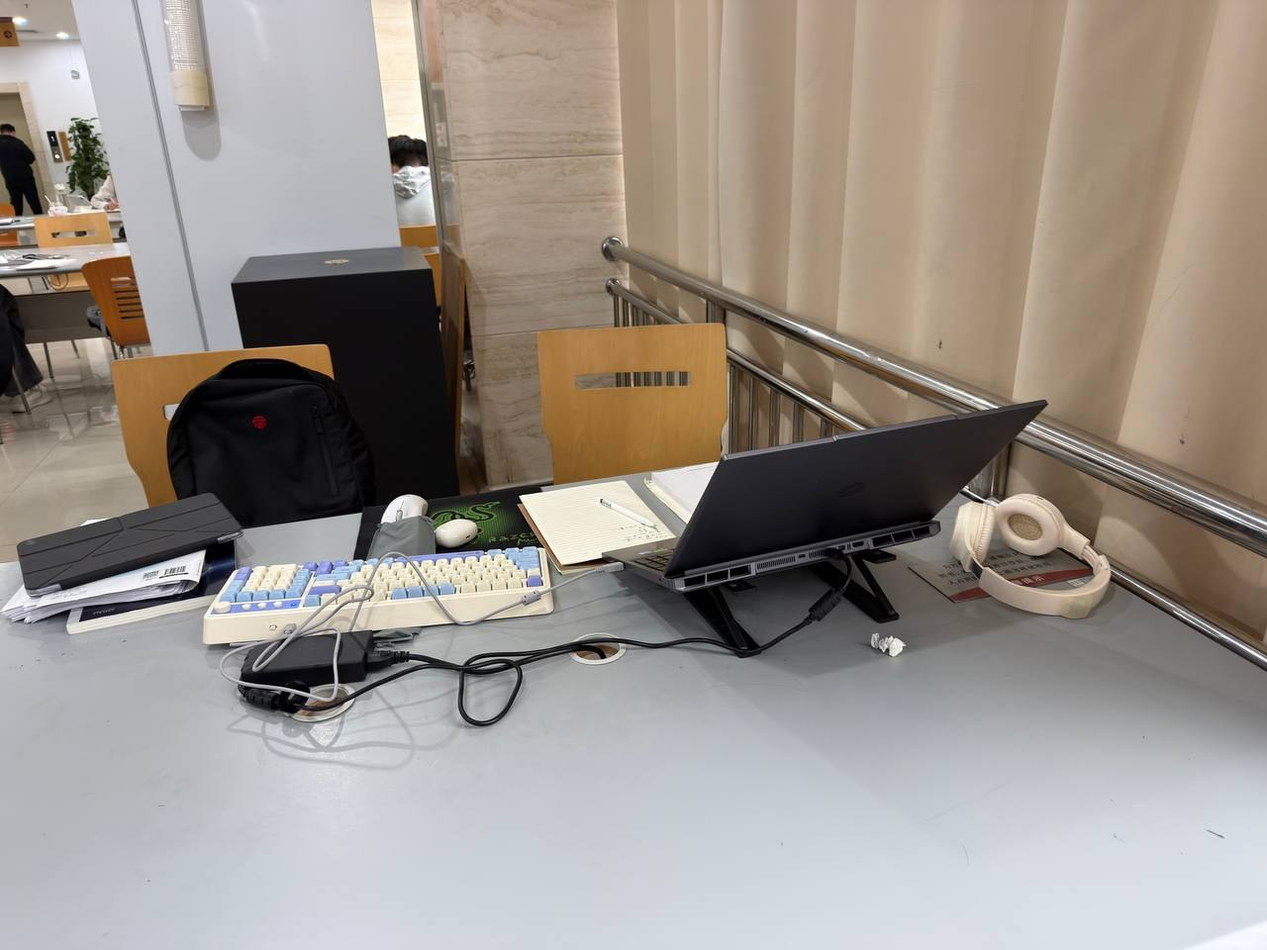laptop: (603, 398, 1049, 593)
